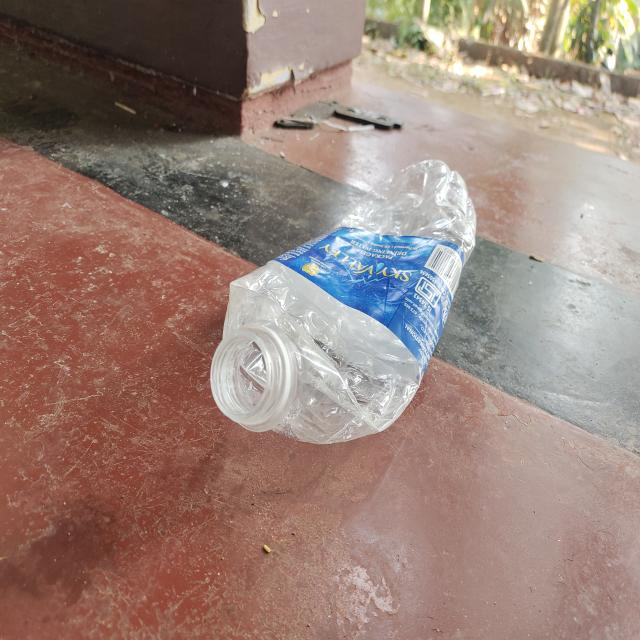plastic: (213, 156, 477, 445)
